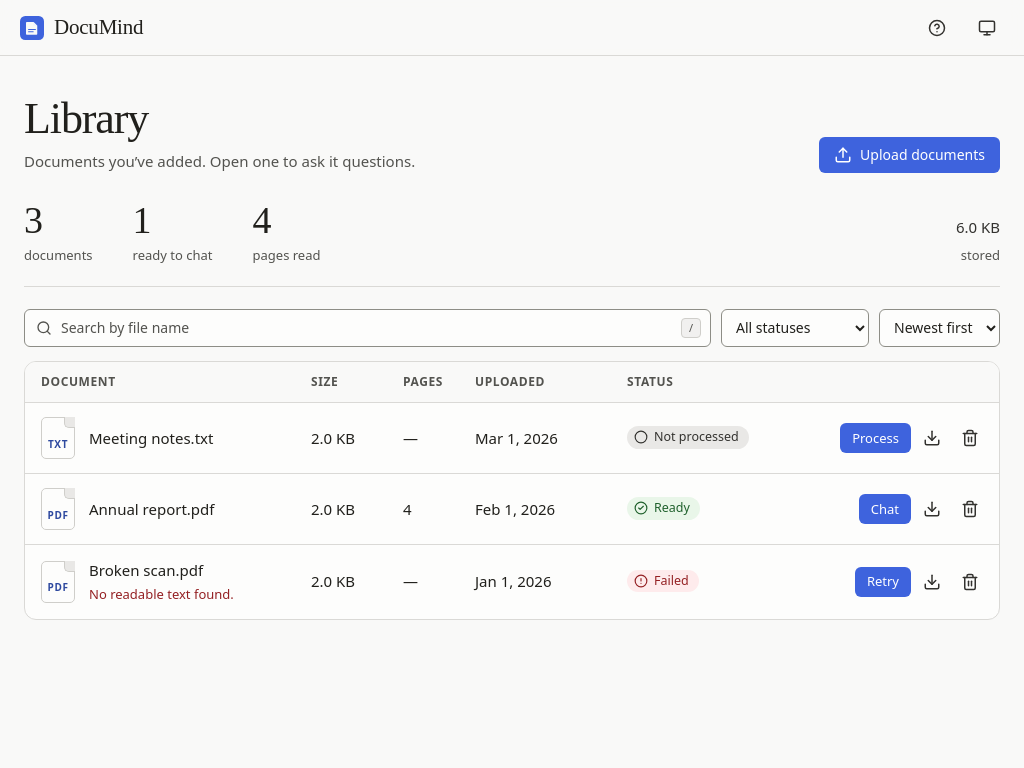
Test case: LibraryPage › keeps the document and says why when delete fails
expect the link "Annual report.pdf" is shown: met, box [89,498,214,518]
Click the button named "Delete Annual report.pdf": (970, 509) [953,492,987,526]
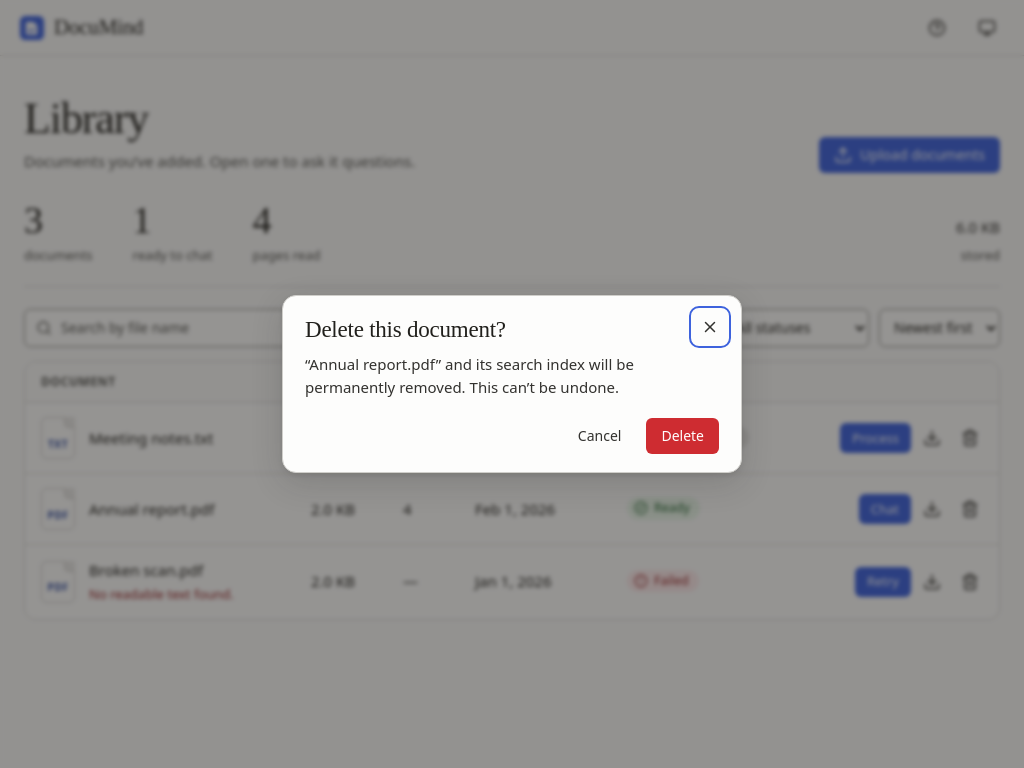
Click the button "Delete": (683, 436) [646,418,719,454]
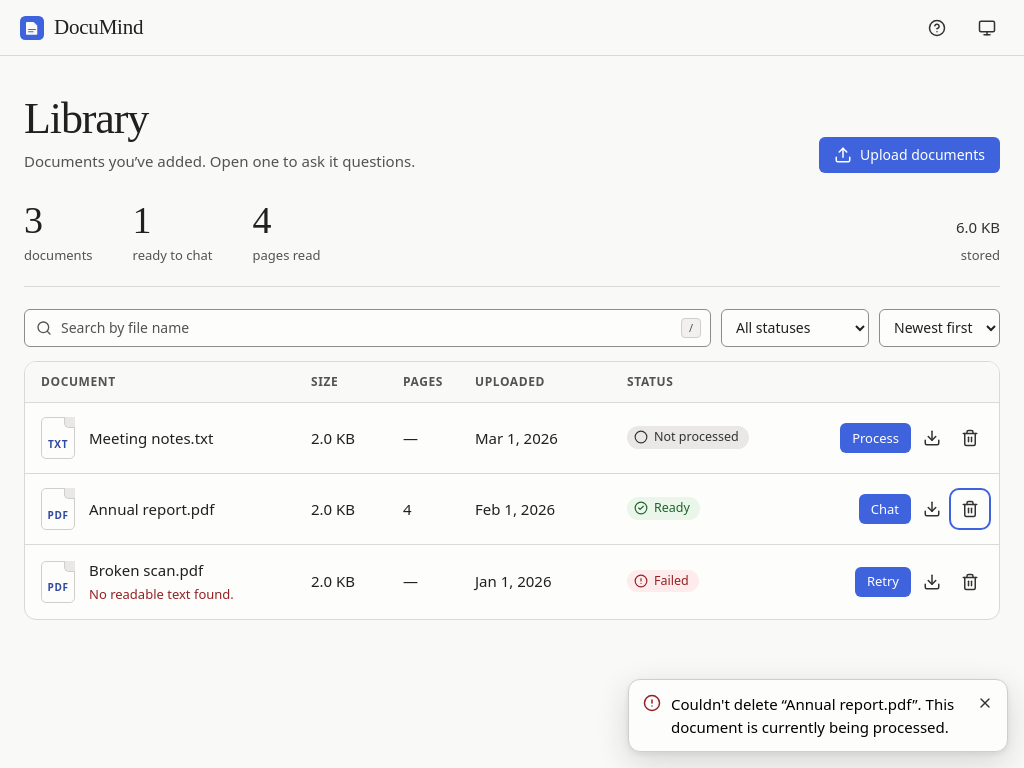
expect the link "Annual report.pdf" is shown: met, box [89,498,214,518]
expect the text "currently being processed" is shown: met, box [671,694,954,737]
